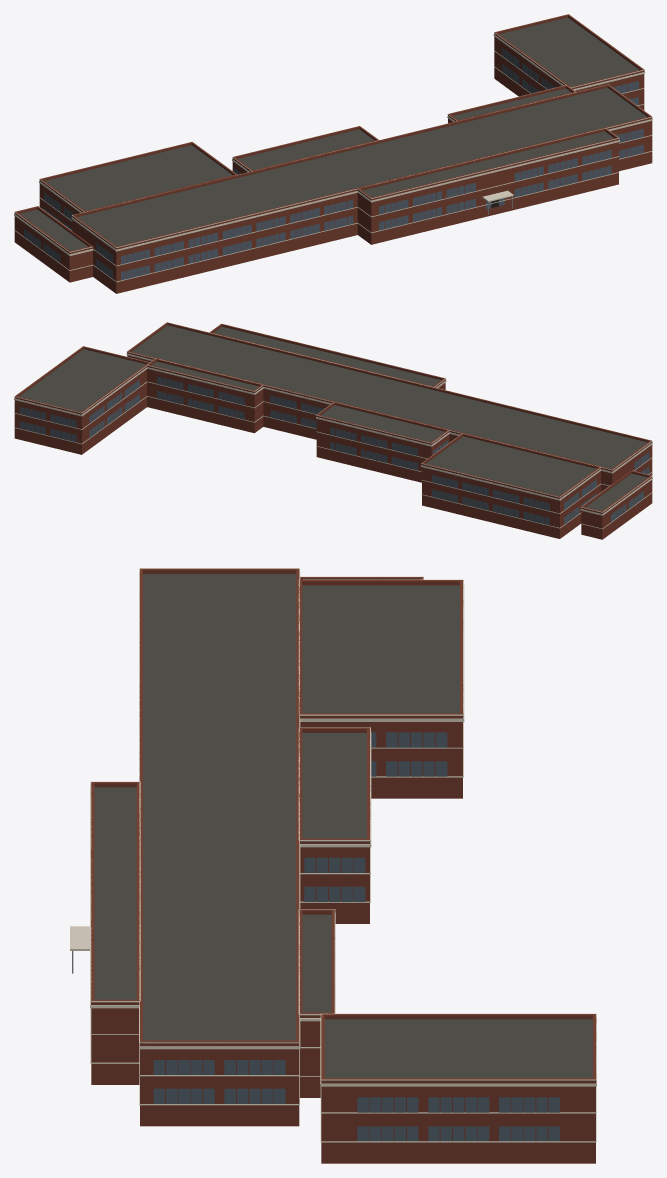
File: nlr-middle-school-bo242165103.glb
The picture shows the model from 3 angles, top to bottom: view 1: azimuth 30°, elevation 25°; view 2: azimuth 150°, elevation 25°; view 3: azimuth 270°, elevation 25°; orthographic projection. The views are drawn at different scales.
Visible parts, largest first — view 1: nlr_middle_school_bo242165103; view 2: nlr_middle_school_bo242165103; view 3: nlr_middle_school_bo242165103.
Boxes of the visible parts, x1,y1,x2,y2 form: nlr_middle_school_bo242165103: (14, 14, 652, 293); nlr_middle_school_bo242165103: (14, 322, 652, 539); nlr_middle_school_bo242165103: (70, 568, 596, 1163).
Bounding box in the file's own units: 142 × 10.48 × 59.52.
